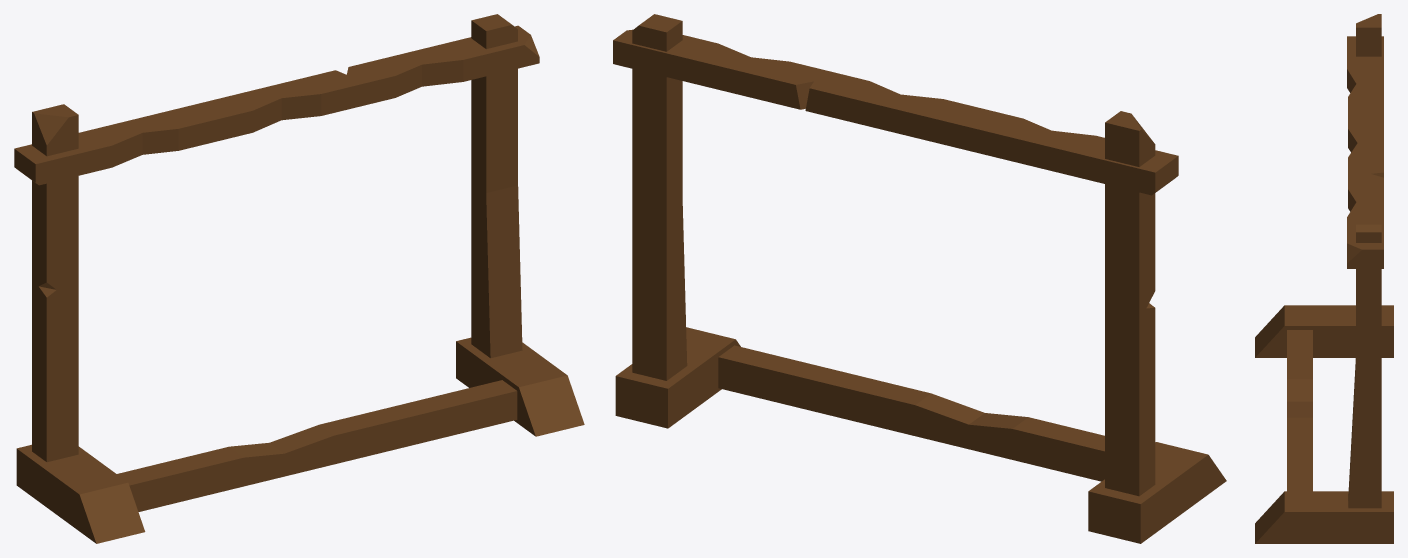
The model's file is WeaponHolder.fbx.
3 views of the same model, side by side, from view 1: azimuth 30°, elevation 25°; view 2: azimuth 150°, elevation 25°; view 3: azimuth 270°, elevation 25° (orthographic). The views are drawn at different scales.
Visible parts, largest first — view 1: Cube.005; view 2: Cube.005; view 3: Cube.005.
Boxes of the visible parts, x1,y1,x2,y2 form: Cube.005: [14, 14, 584, 543]; Cube.005: [613, 14, 1226, 543]; Cube.005: [1255, 14, 1393, 543].
Bounding box in the file's own units: 124 × 88.75 × 34.16.
